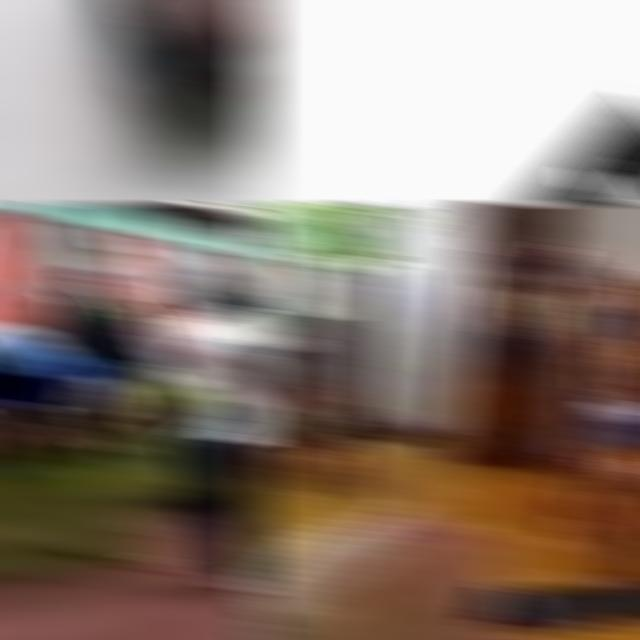Knife: (172, 390, 268, 446)
Knife_Handle: (334, 504, 640, 640), (172, 373, 268, 448)
